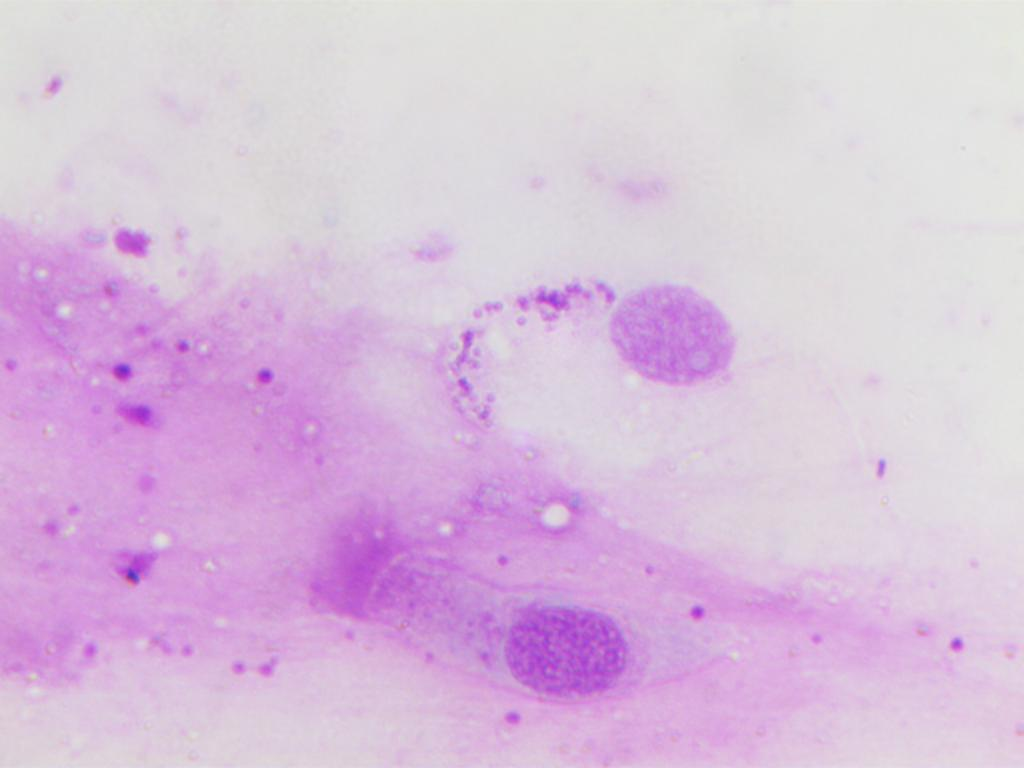ciliated: (298, 496, 636, 705)
epithelial: (607, 273, 740, 394)
